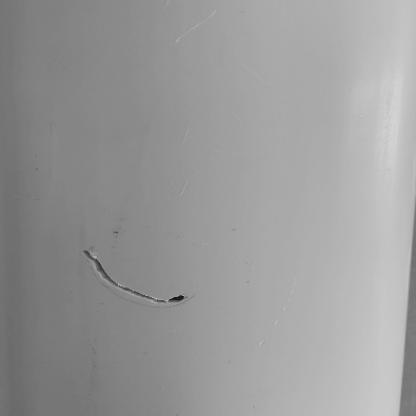fengxi: (81, 249, 189, 305)
